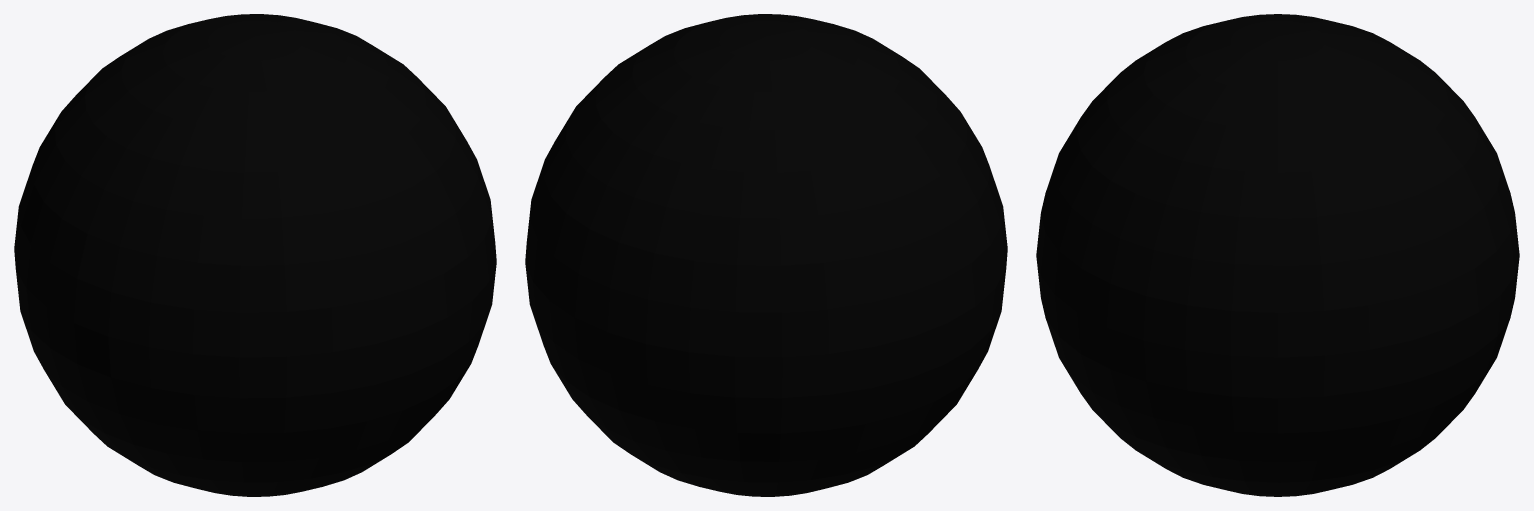
The model's file is Pinoccio.obj.
3 renders of one model, left to right at view 1: azimuth 30°, elevation 25°; view 2: azimuth 150°, elevation 25°; view 3: azimuth 270°, elevation 25°, orthographic.
Visible parts, largest first — view 1: Sphere_Sphere.001; view 2: Sphere_Sphere.001; view 3: Sphere_Sphere.001.
Part boxes in pixels (x1,y1,x2,y2): Sphere_Sphere.001: [14, 14, 496, 496]; Sphere_Sphere.001: [525, 14, 1007, 496]; Sphere_Sphere.001: [1036, 14, 1519, 496].
Size of the model in its own units: 60 by 60 by 60.
2 materials, 2 textured.
